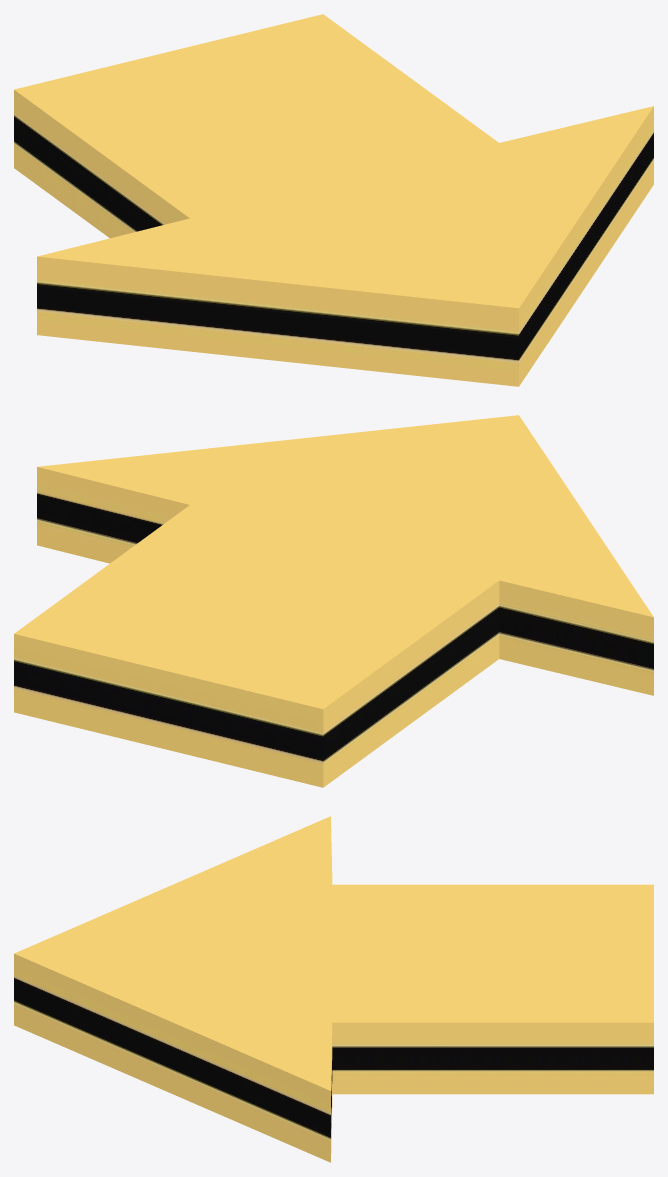
Rendered from arrow.glb.
3 renders of one model, top to bottom at view 1: azimuth 30°, elevation 25°; view 2: azimuth 150°, elevation 25°; view 3: azimuth 270°, elevation 25°, orthographic. The views are drawn at different scales.
Parts seen in each view (by area): view 1: Object_2; view 2: Object_2; view 3: Object_2.
Boxes of the visible parts, box(x1,y1,x2,y2) form: Object_2: box(14, 14, 653, 386); Object_2: box(14, 415, 653, 787); Object_2: box(14, 816, 653, 1162).
Size of the model in its own units: 6.26 by 0.7619 by 6.16.
Materials: 1 (1 with a texture image).
